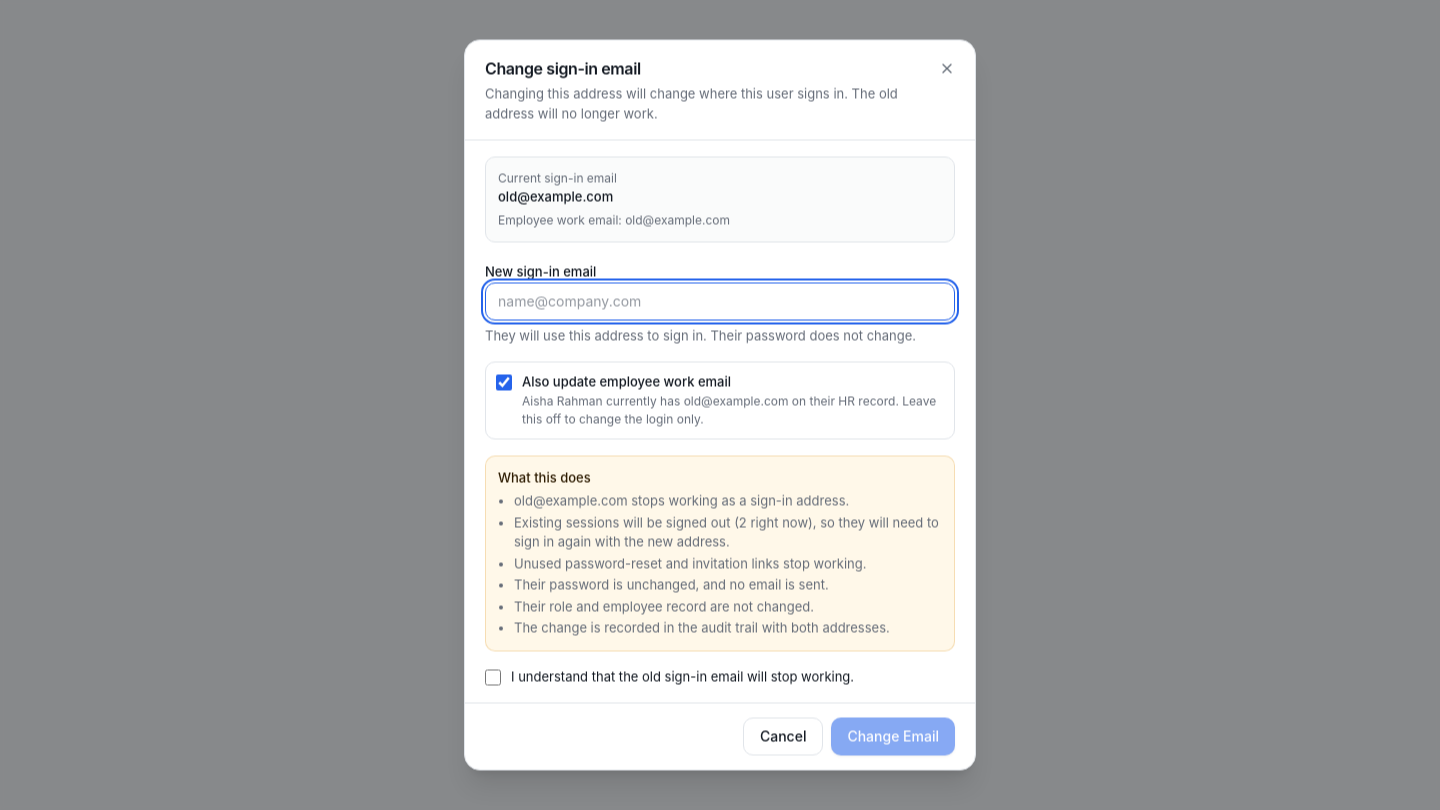
Test case: ChangeEmailDialog: what it shows › will not submit until the consequence has been acknowledged
This screenshot has width=1440, height=810.
Check: the checkbox labelled "I understand that the old sign-in email will stop working." is not checked, box [485, 669, 501, 685]
Check: the button "Change Email" is disabled, box [831, 718, 955, 756]
In the field labelled "New sign-in email": (720, 301) [485, 282, 955, 320], type "new@example.com"
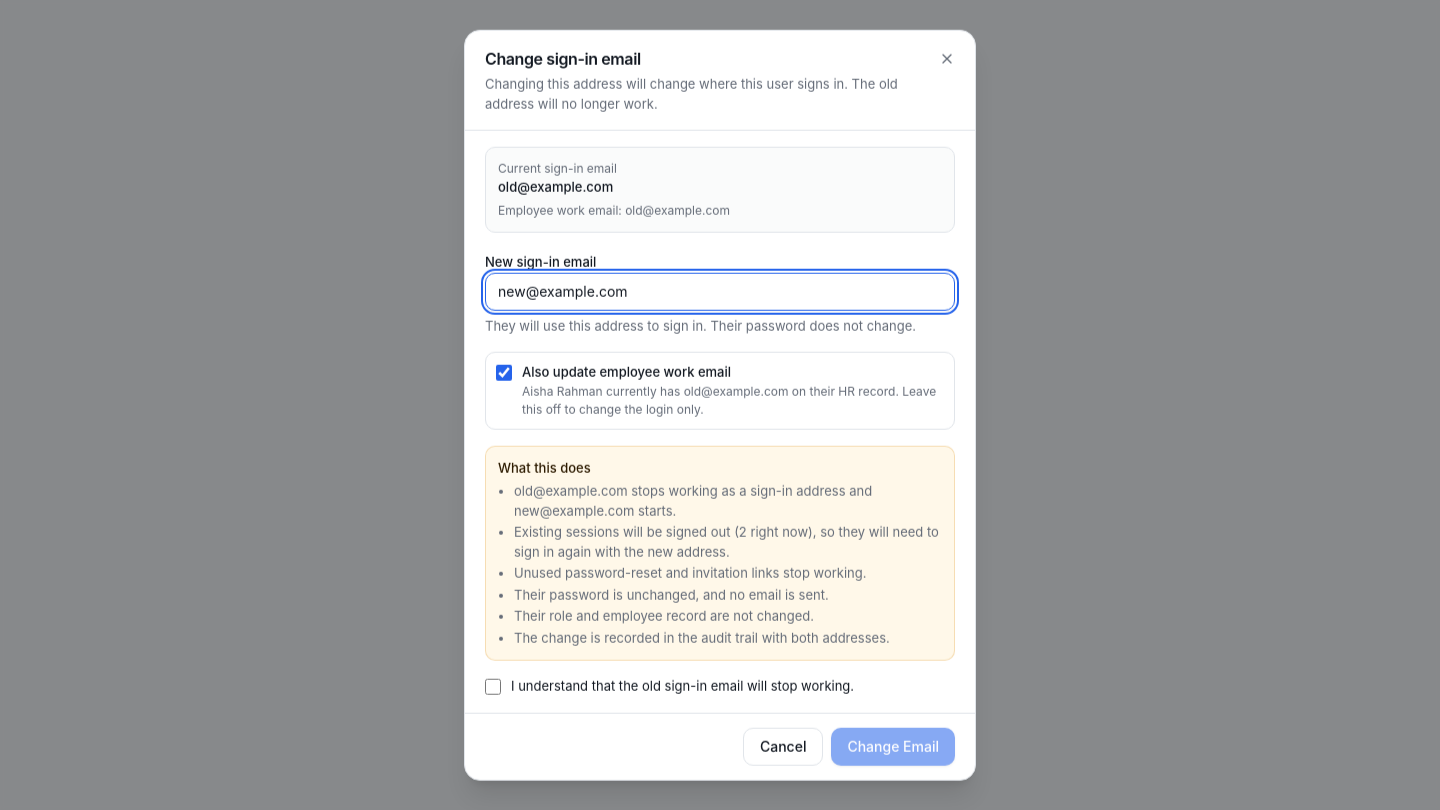
Check: the button "Change Email" is disabled, box [831, 727, 955, 765]
Click the checkbox labelled "I understand that the old sign-in email will stop working.": (493, 687) [485, 679, 501, 695]
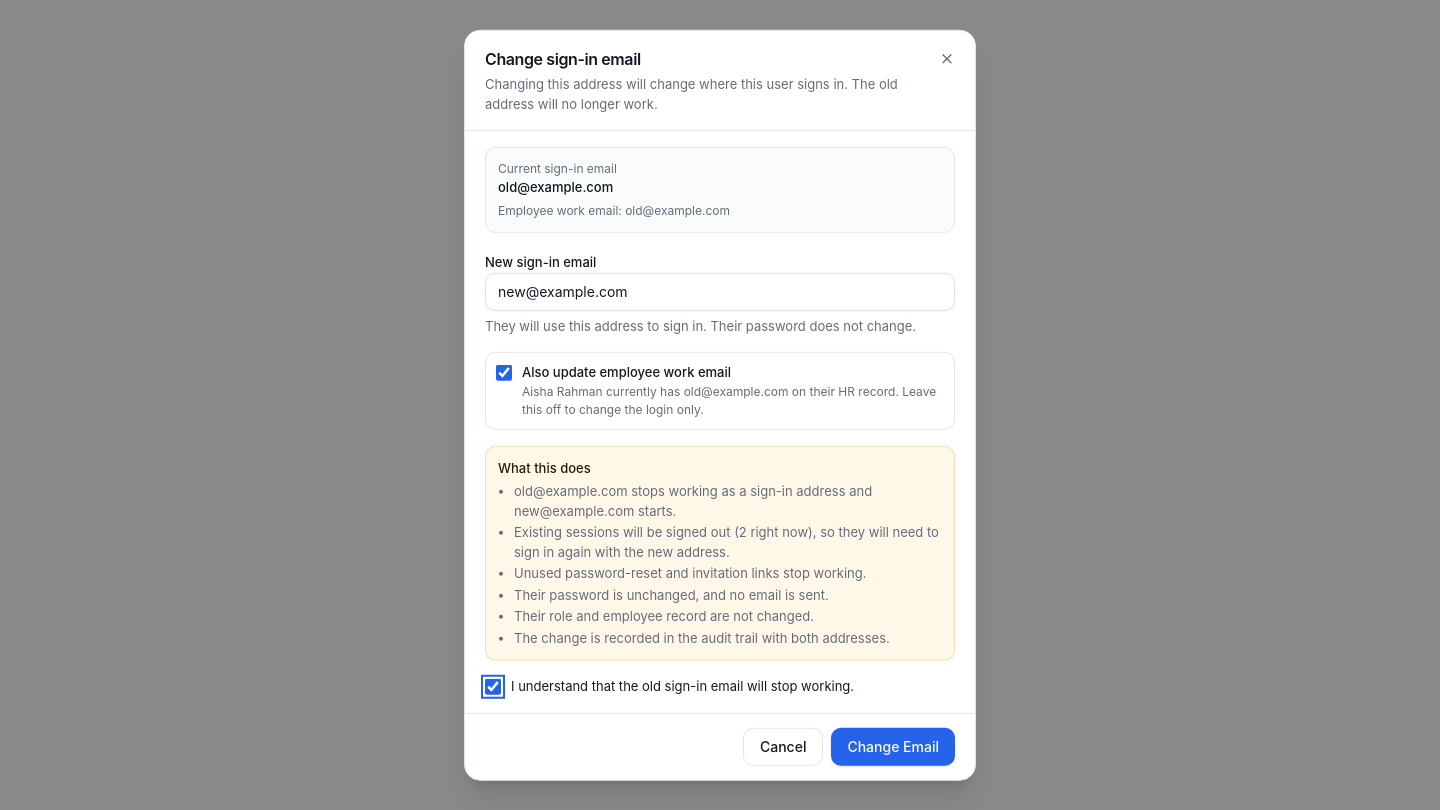
Check: the button "Change Email" is enabled, box [831, 727, 955, 765]
